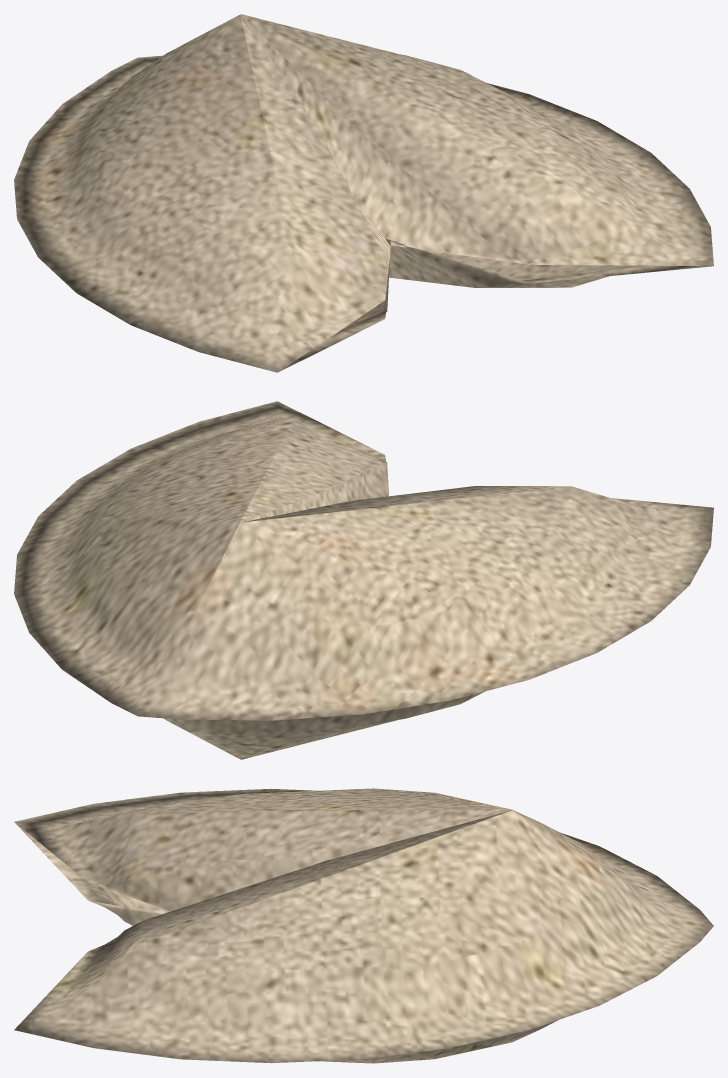
File: fortuneCookieFull.obj
3 renders of one model, top to bottom at view 1: azimuth 30°, elevation 25°; view 2: azimuth 150°, elevation 25°; view 3: azimuth 270°, elevation 25°, orthographic. The views are drawn at different scales.
Parts seen in each view (by area): view 1: Circle.001_Circle.002; view 2: Circle.001_Circle.002; view 3: Circle.001_Circle.002.
Part boxes in pixels (<box>): Circle.001_Circle.002: <box>14,14,713,372</box>; Circle.001_Circle.002: <box>14,401,713,759</box>; Circle.001_Circle.002: <box>14,788,713,1063</box>.
Size of the model in its own units: 5.6 by 2.21 by 6.04.
1 material, 1 textured.
